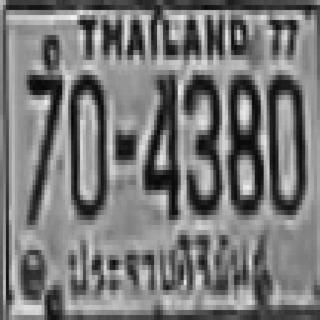N00: (68, 70, 107, 215), (267, 70, 305, 210)
N03: (184, 70, 219, 210)
N04: (142, 70, 178, 215)
N07: (24, 70, 62, 220)
N08: (225, 70, 261, 210)
P50: (62, 228, 274, 302)
